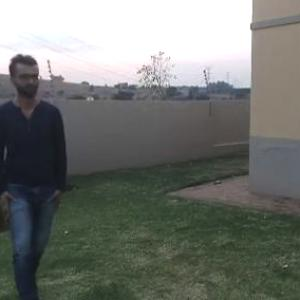follow: (6, 46, 80, 299)
